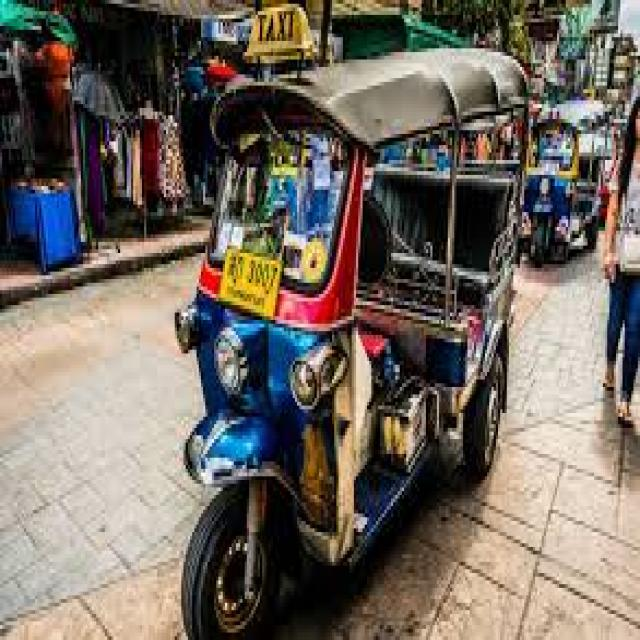tuktuk: (122, 0, 578, 640)
